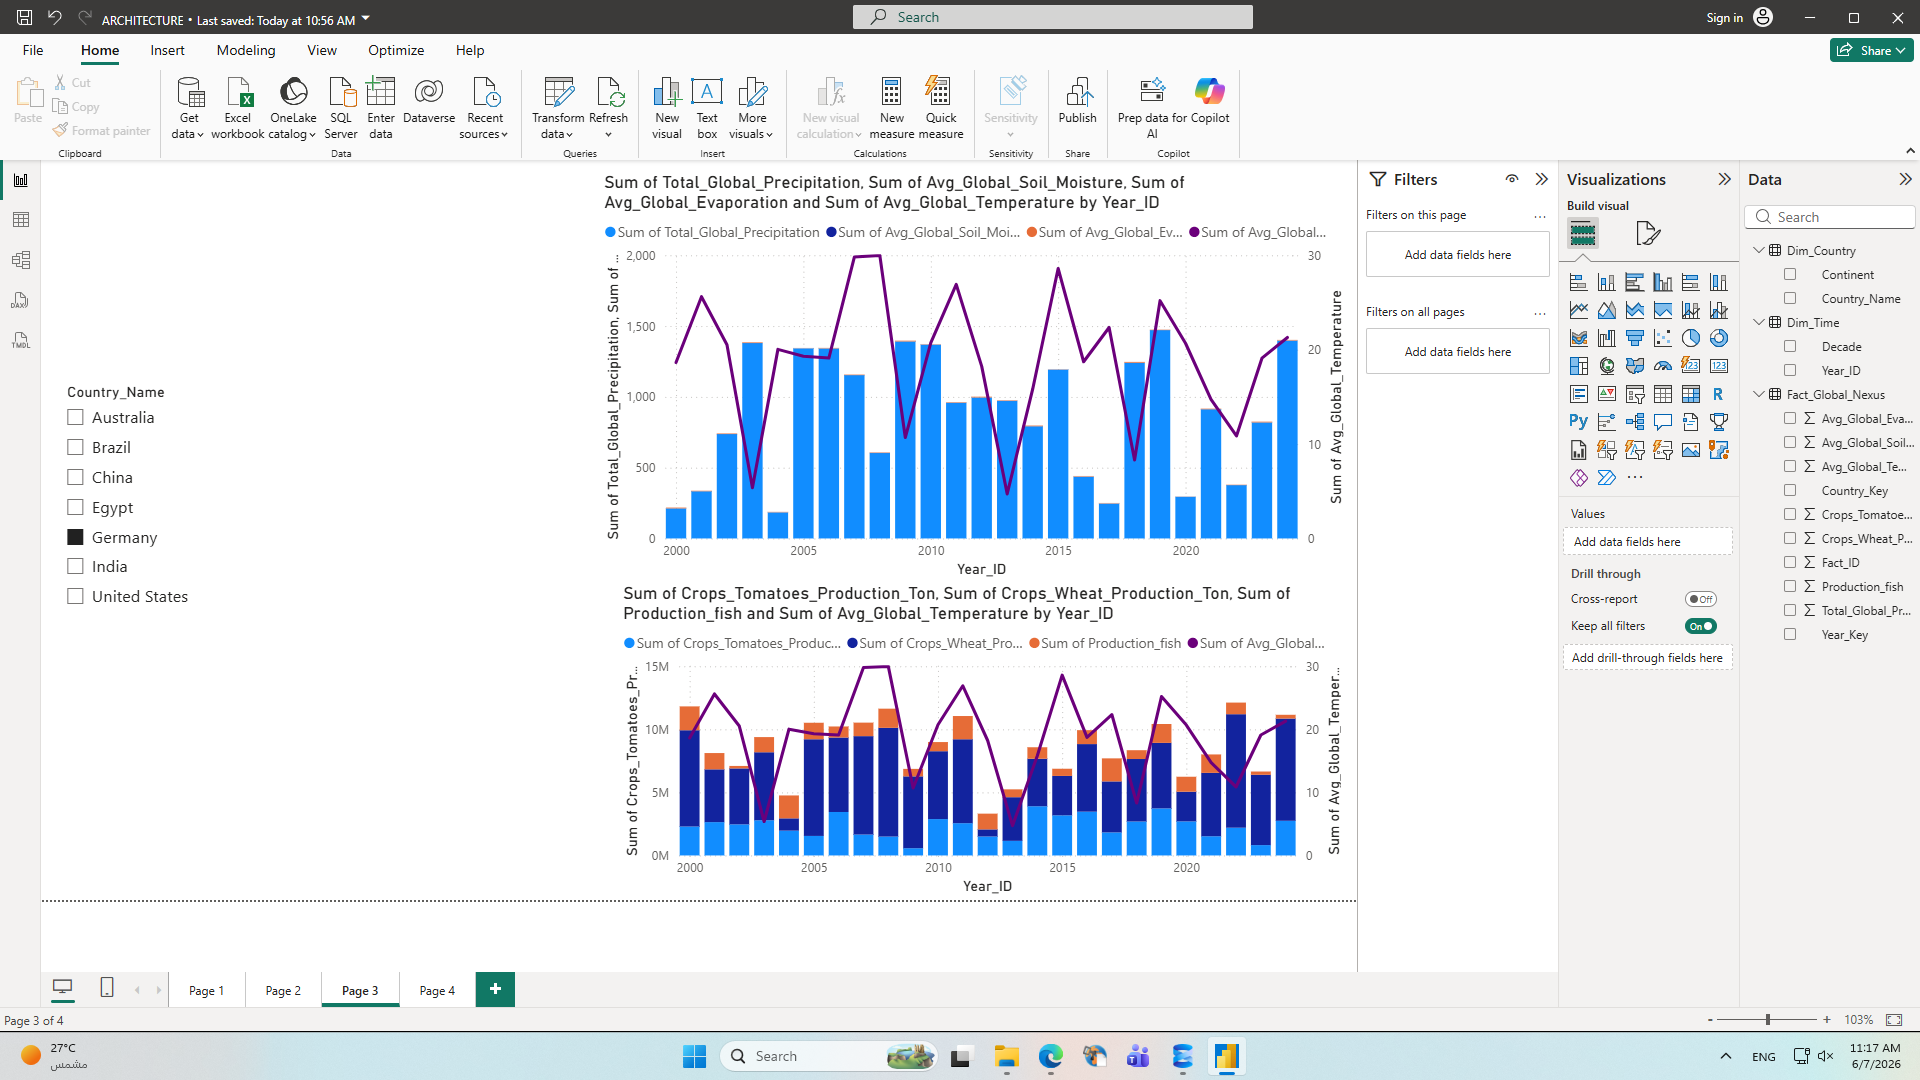

Layout of this report page (visuals, bound fields, positions):
{"tool":"powerbi","page":{"name":"Page 3","canvas":[1280,720],"ordinal":2},"visuals":[{"type":"lineStackedColumnComboChart","fields":{"Category":["Dim_Time.Year_ID"],"Y":["Sum(Fact_Global_Nexus.Total_Global_Precipitation)","Sum(Fact_Global_Nexus.Avg_Global_Soil_Moisture)","Sum(Fact_Global_Nexus.Avg_Global_Evaporation)"],"Y2":["Sum(Fact_Global_Nexus.Avg_Global_Temperature)"]},"box":[542.7,11.7,728.5,399.8],"z":0},{"type":"slicer","fields":{"Values":["Dim_Country.Country_Name"]},"box":[12.6,212,518.4,273.3],"z":1000},{"type":"lineStackedColumnComboChart","fields":{"Category":["Dim_Time.Year_ID"],"Y":["Sum(Fact_Global_Nexus.Crops_Tomatoes_Production_Ton)","Sum(Fact_Global_Nexus.Crops_Wheat_Production_Ton)","Sum(Fact_Global_Nexus.Production_MT)"],"Y2":["Sum(Fact_Global_Nexus.Avg_Global_Temperature)"]},"box":[561.2,411.4,708.1,308.3],"z":2000}]}

Visuals, with their boxes on the page's 1280x720 design canvas (x1, y1, x2, y2). These are canvas units, not pixel positions in the 1920x1080 screenshot, which may show the page scaled, cropped or inside an application window:
lineStackedColumnComboChart - Dim_Time.Year_ID x Sum(Fact_Global_Nexus.Total_Global_Precipitation): (x1=543, y1=12, x2=1271, y2=412)
slicer - Dim_Country.Country_Name: (x1=13, y1=212, x2=531, y2=485)
lineStackedColumnComboChart - Dim_Time.Year_ID x Sum(Fact_Global_Nexus.Crops_Tomatoes_Production_Ton): (x1=561, y1=411, x2=1269, y2=720)
